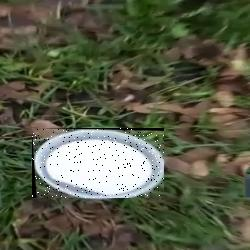plastic: (32, 128, 164, 198)
